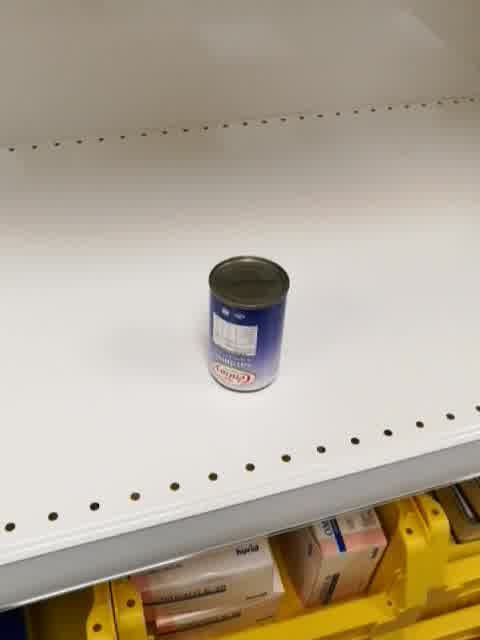sardine: (208, 256, 291, 393)
